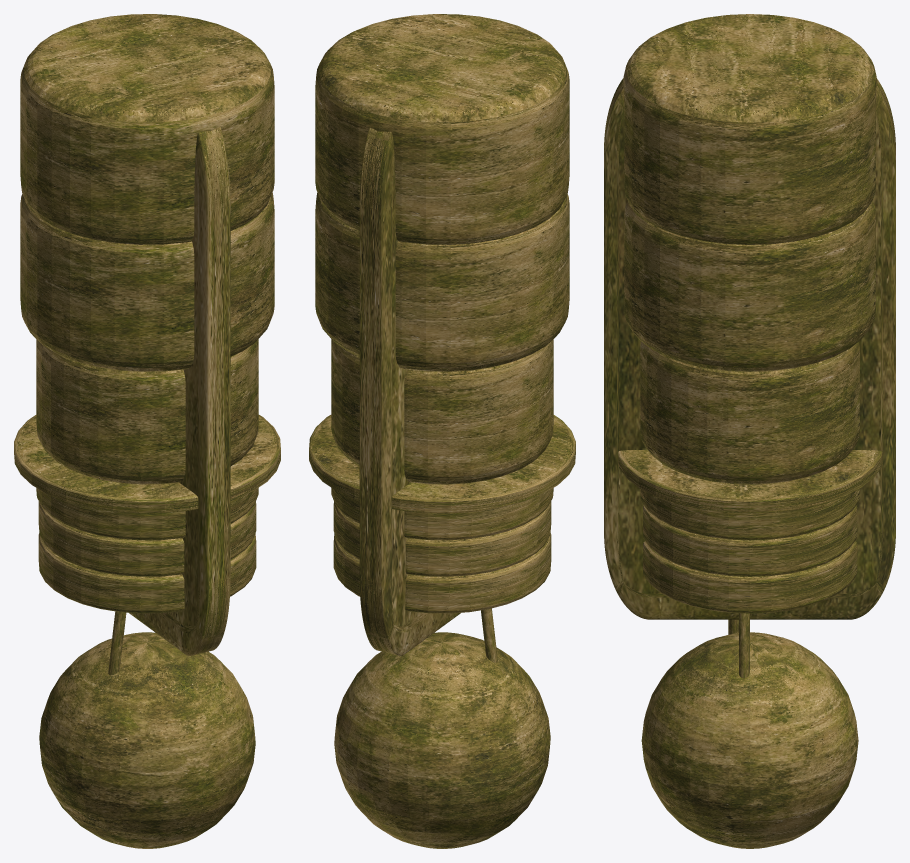
The model's file is Rond.glb.
The picture shows the model from 3 angles, left to right: view 1: azimuth 30°, elevation 25°; view 2: azimuth 150°, elevation 25°; view 3: azimuth 270°, elevation 25°; orthographic projection.
Parts seen in each view (by area): view 1: Cylinder.007; view 2: Cylinder.007; view 3: Cylinder.007.
Boxes of the visible parts, left/top/right/bottom form: Cylinder.007: left=14, top=14, right=280, bottom=848; Cylinder.007: left=309, top=14, right=575, bottom=848; Cylinder.007: left=604, top=14, right=895, bottom=848.
Size of the model in its own units: 9.97 by 31.98 by 10.88.
Materials: 5 (5 with a texture image).
